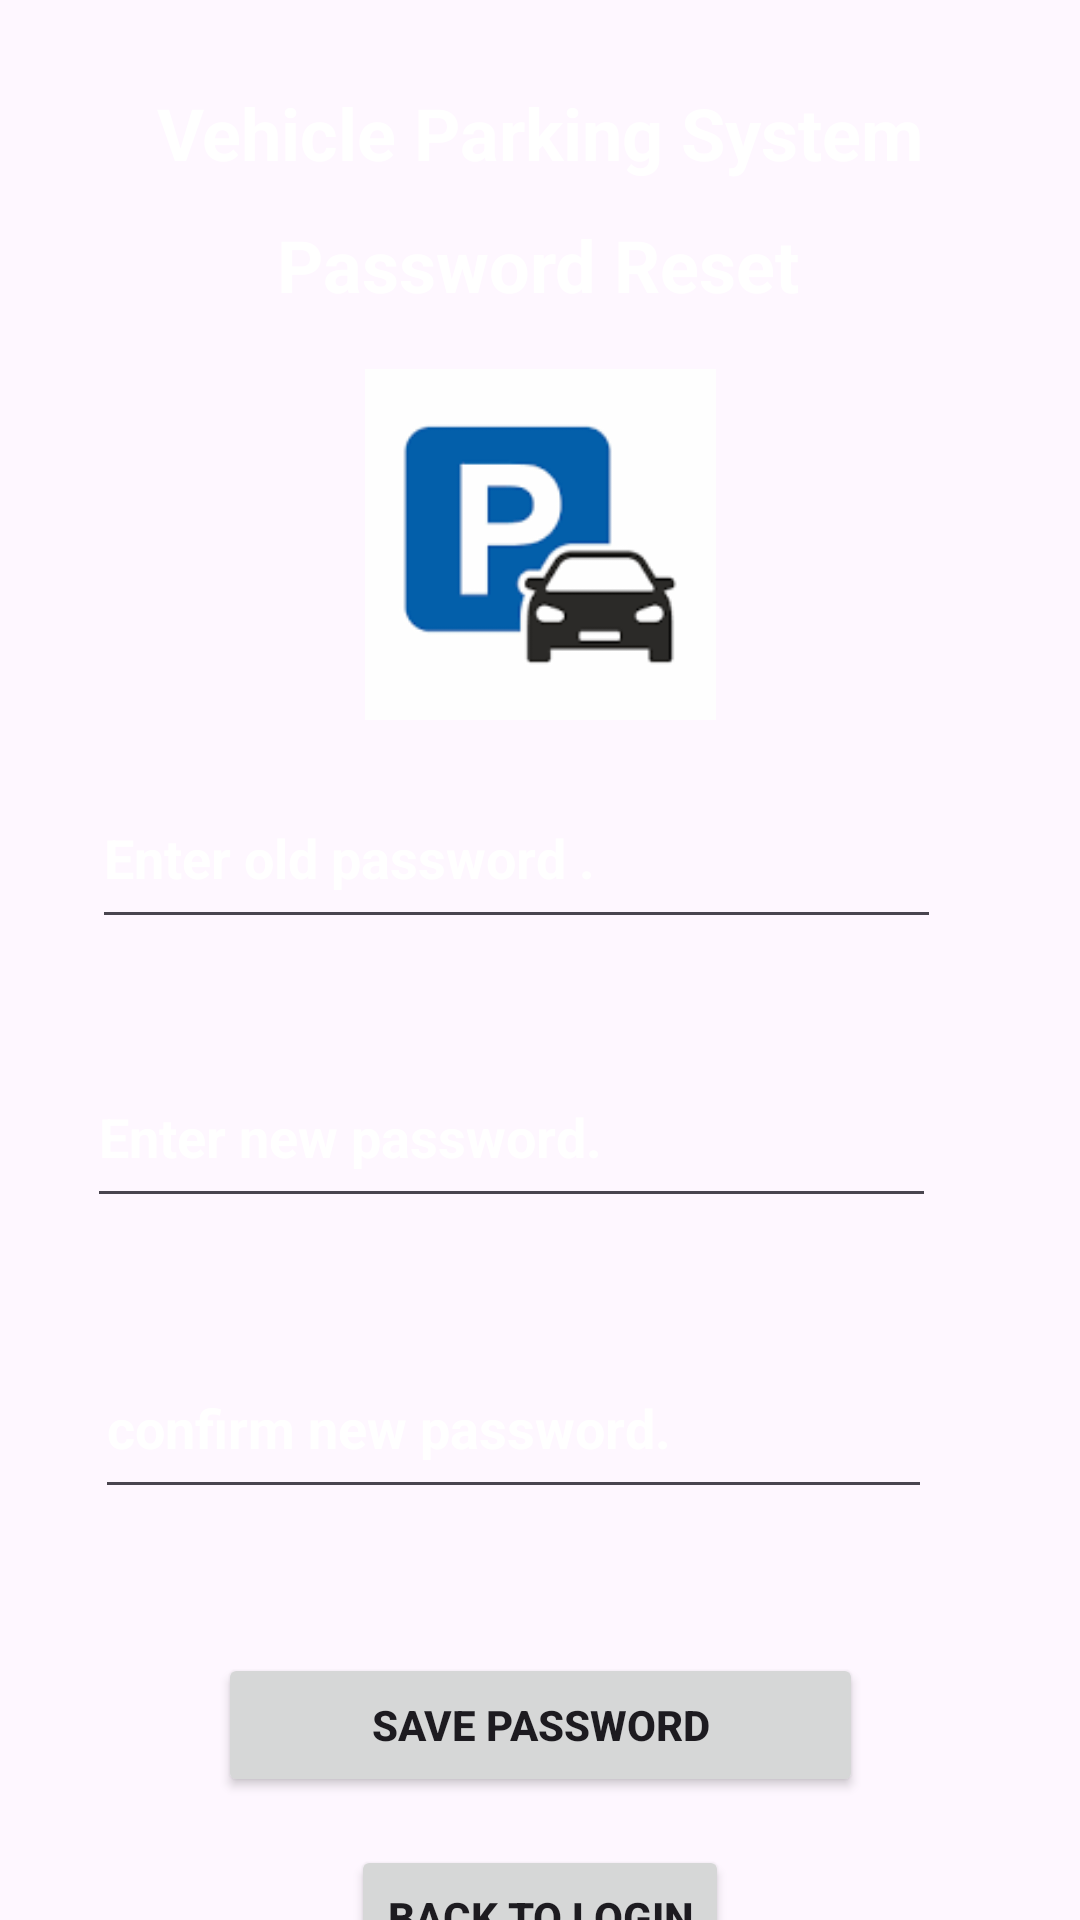

Named icons in this screenshot (1080 × 1920) and their centers, (x,y):
vehicle: (539,544)
